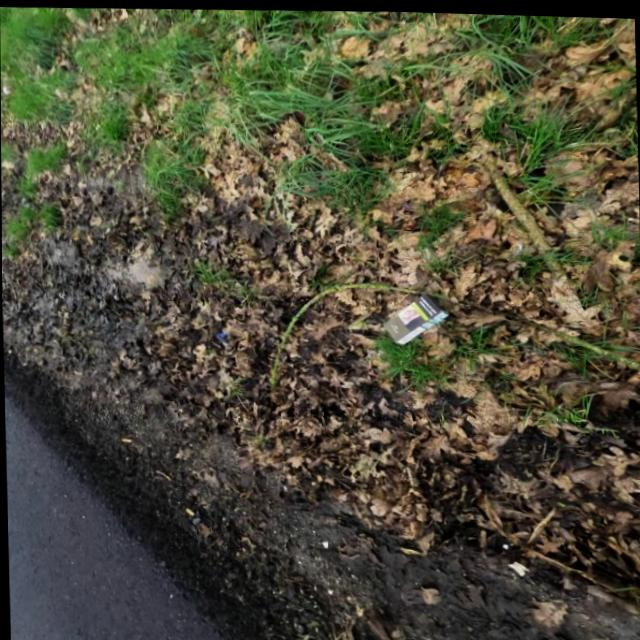Paper: (379, 286, 452, 344)
